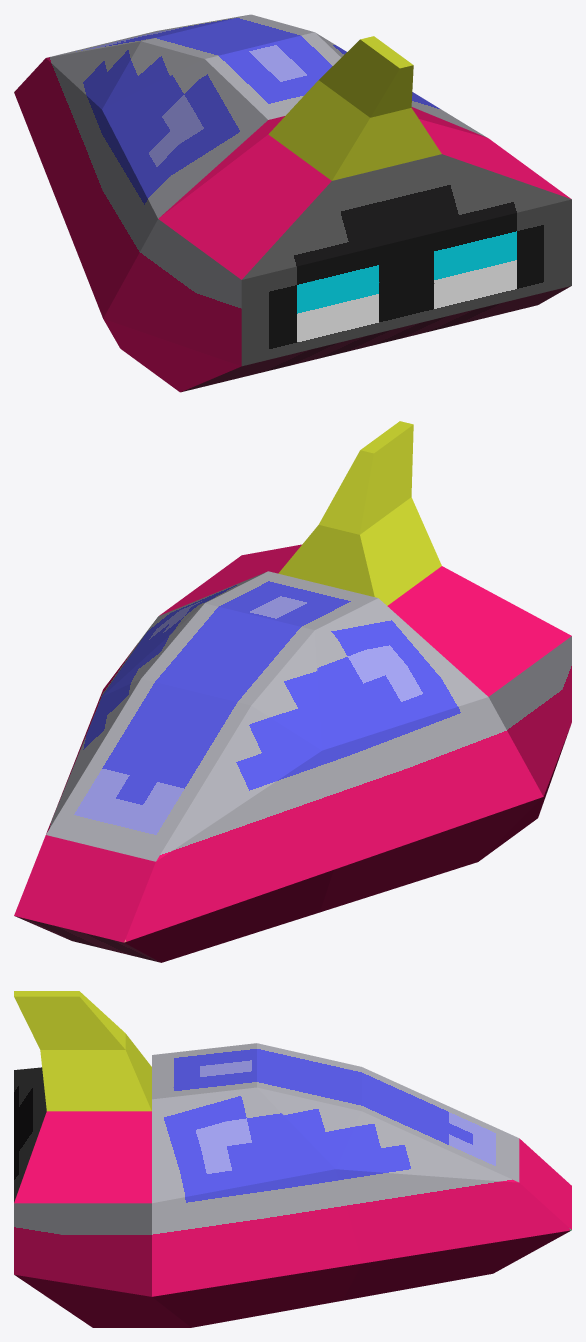
Rendered from ship1.gltf.
3 views of the same model, one above another, from view 1: azimuth 30°, elevation 25°; view 2: azimuth 150°, elevation 25°; view 3: azimuth 270°, elevation 25° (orthographic). The views are drawn at different scales.
Visible parts, largest first — view 1: cube; view 2: cube; view 3: cube.
Boxes of the visible parts, x1,y1,x2,y2 form: cube: (14, 14, 571, 392); cube: (14, 421, 571, 962); cube: (14, 991, 571, 1327).
Bounding box in the file's own units: 1 × 0.6875 × 1.33.
1 material, 1 textured.
